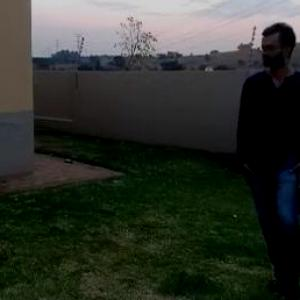follow: (223, 15, 299, 287)
